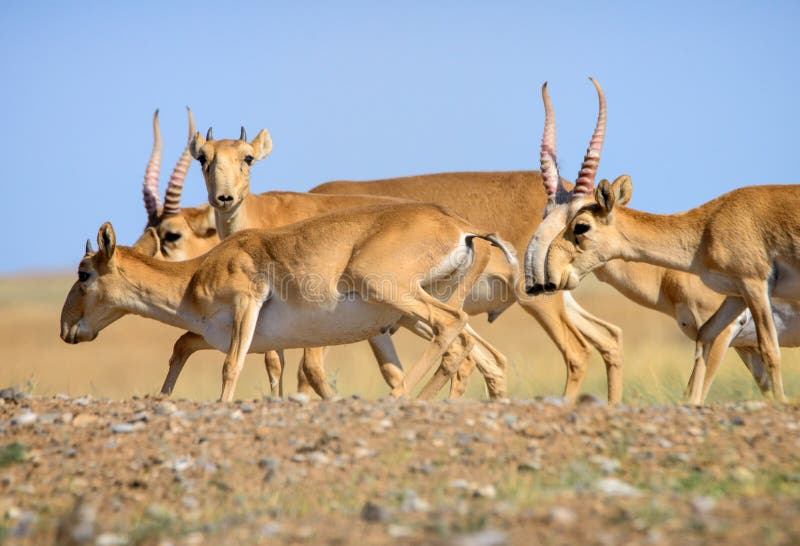saiga: (57, 199, 516, 401), (544, 174, 800, 417)
